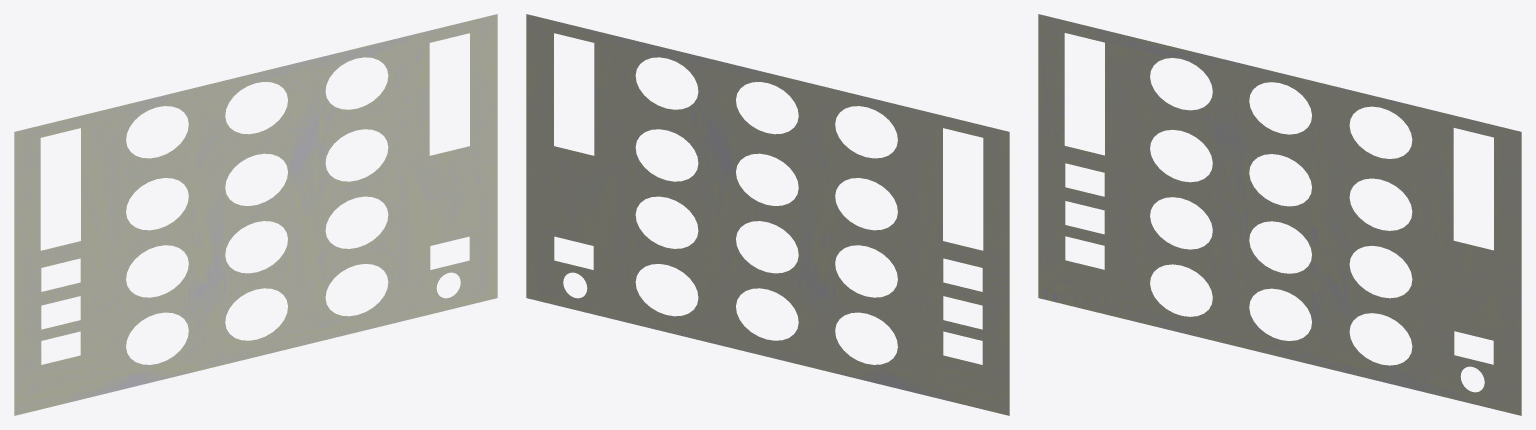
The model's file is original-60.obj.
The picture shows the model from 3 angles, left to right: view 1: azimuth 30°, elevation 25°; view 2: azimuth 150°, elevation 25°; view 3: azimuth 330°, elevation 25°; orthographic projection.
Visible parts, largest first — view 1: mesh52/mesh52-geometry/material_2/component_0#mesh52-geometry; view 2: mesh52/mesh52-geometry/material_2/component_0#mesh52-geometry; view 3: mesh52/mesh52-geometry/material_2/component_0#mesh52-geometry.
Boxes of the visible parts, x1,y1,x2,y2 form: mesh52/mesh52-geometry/material_2/component_0#mesh52-geometry: (14,14,497,415); mesh52/mesh52-geometry/material_2/component_0#mesh52-geometry: (526,14,1009,415); mesh52/mesh52-geometry/material_2/component_0#mesh52-geometry: (1038,14,1521,415).
Size of the model in its own units: 0.8379 by 0.4707 by 0.
